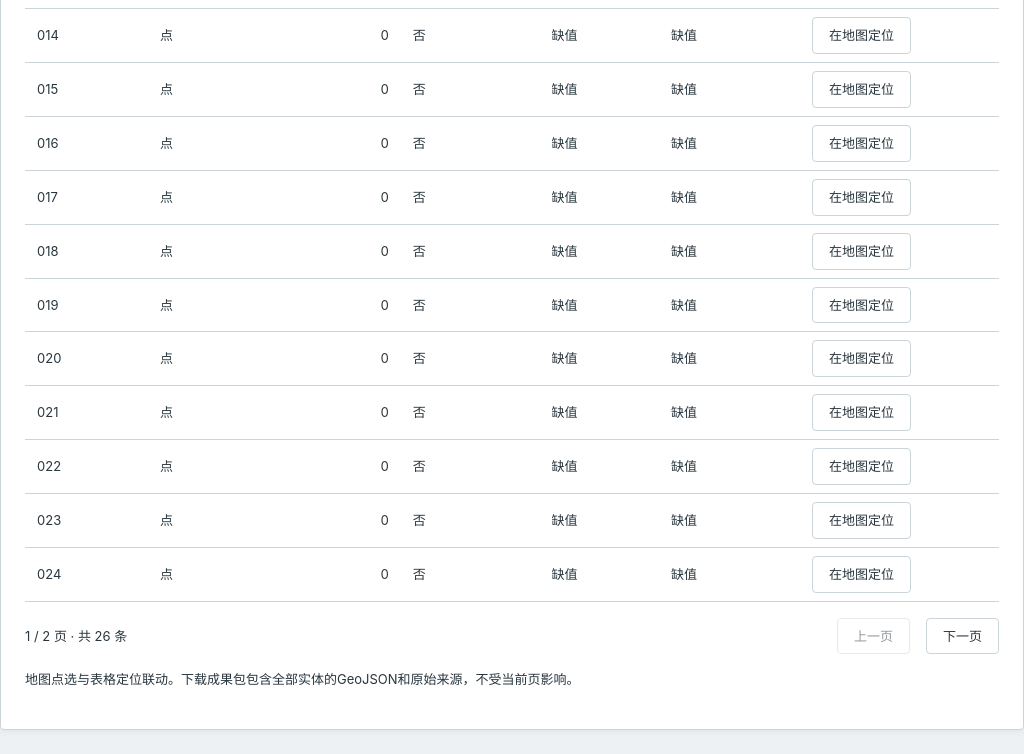
Test: shows all property columns and pages actual entities while preserving zero, false and missing
This screenshot has width=1024, height=754.
(page scrolled)
Click the button "下一页". click: (962, 636)
box: [926,618,999,654]
(page scrolled)
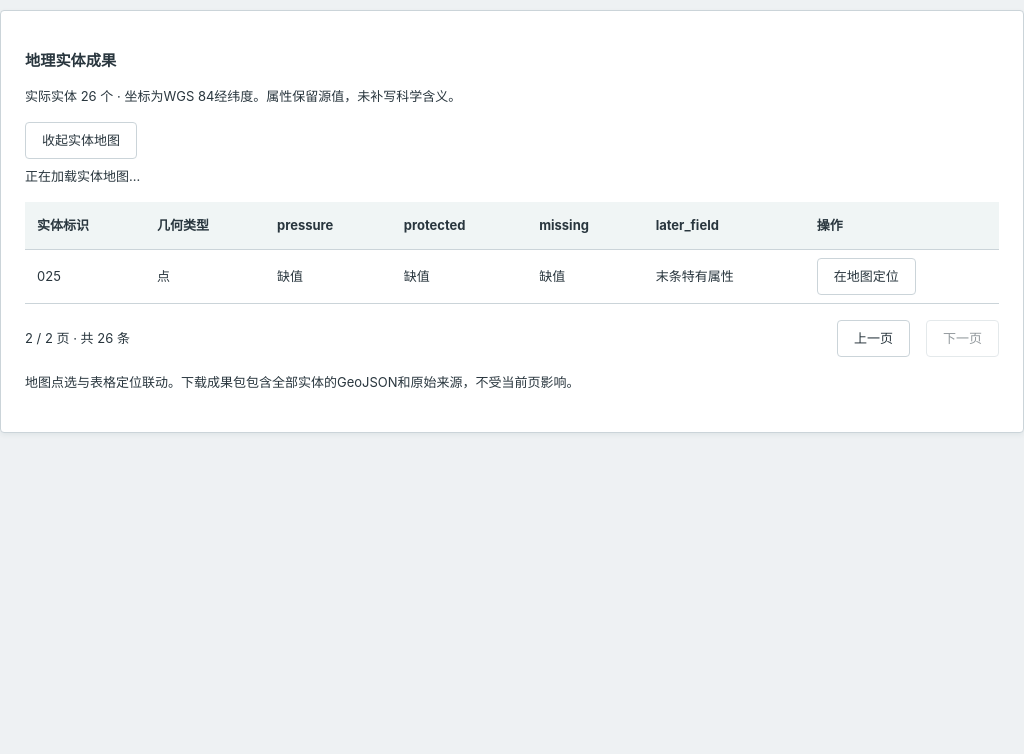
Check: the cell "025" is shown, box [25,250,145,304]
Check: the text "末条特有属性" is shown, box [644,250,805,304]
Click the button with aria-label "在地图定位 025". click: (866, 277)
box: [817,258,916,295]
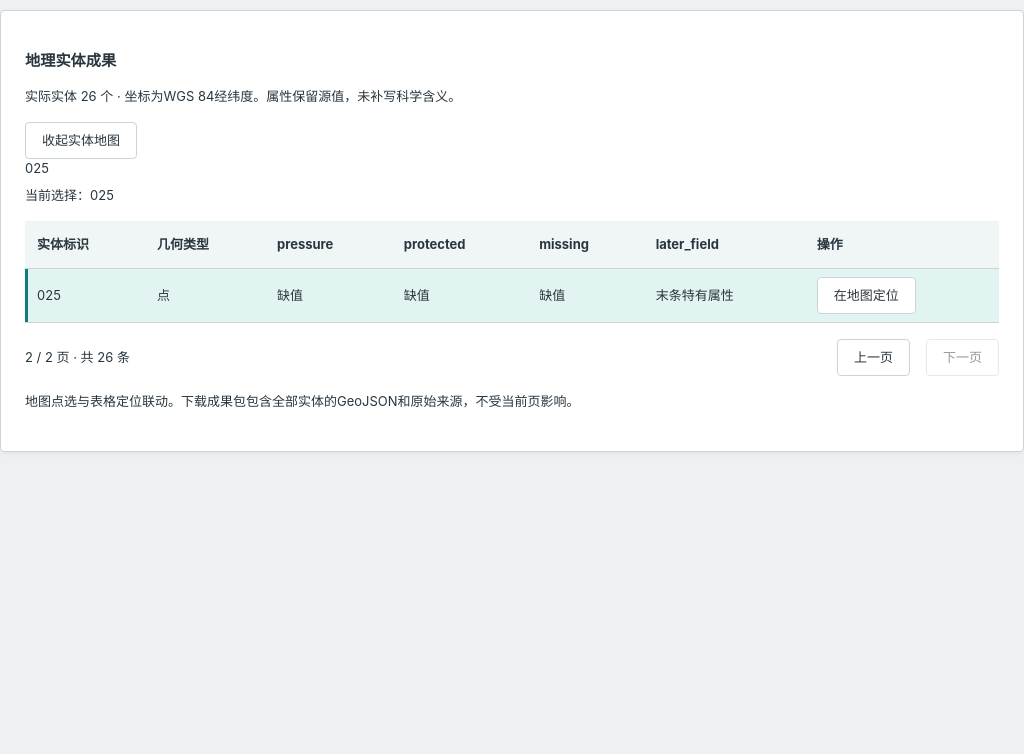
Check: the text "2 / 2 页 · 共 26 条" is shown, box [25,348,130,367]
Check: the text named "测试地图选择" reads "025", box [25,160,49,176]
